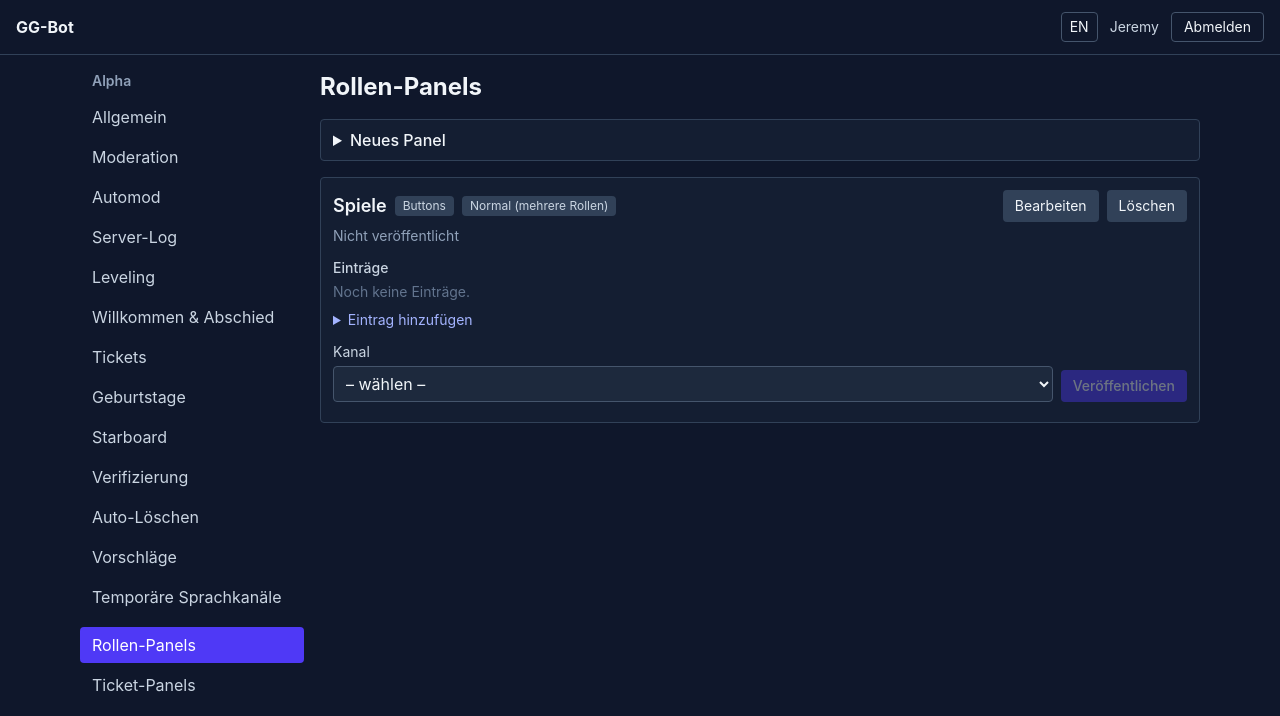
Test case: Veröffentlichen › Fehler des Bots erscheinen im Wortlaut, ohne dass das Panel als veröffentlicht gilt
Select "#chat (Allgemein)" in the dropdown labelled "Kanal" at (693, 384), box [333,366,1053,402]
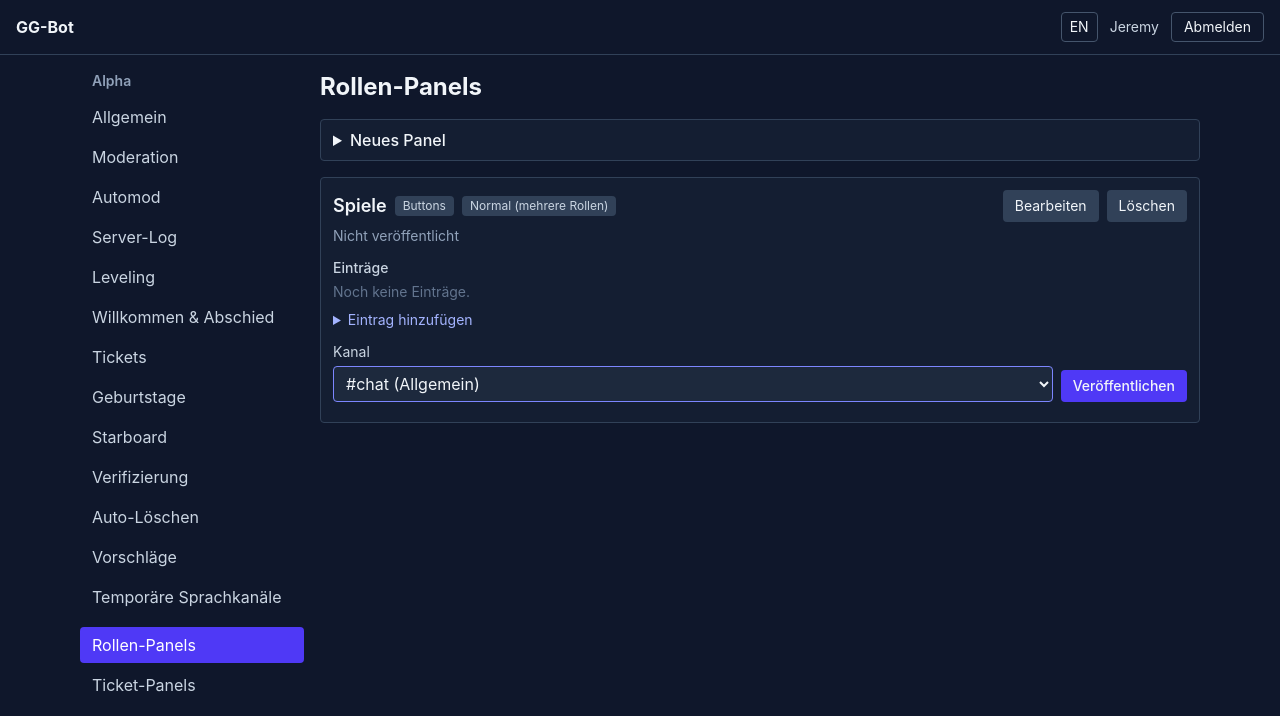
Click the button "Veröffentlichen" at (1124, 386), box [1061,370,1187,402]
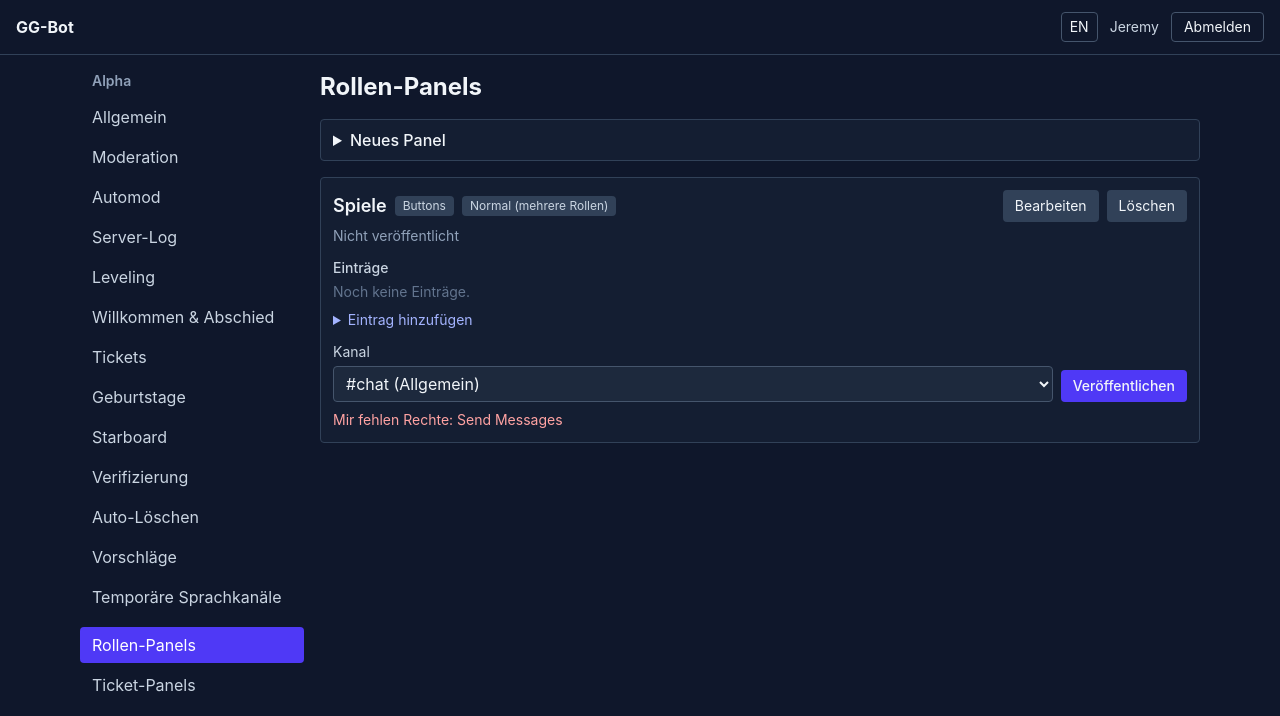
Expected: the text "Nicht veröffentlicht" is shown, [333,227,459,244]
Result: the text "Mir fehlen Rechte: Send Messages" is shown at [333,411,563,428]
